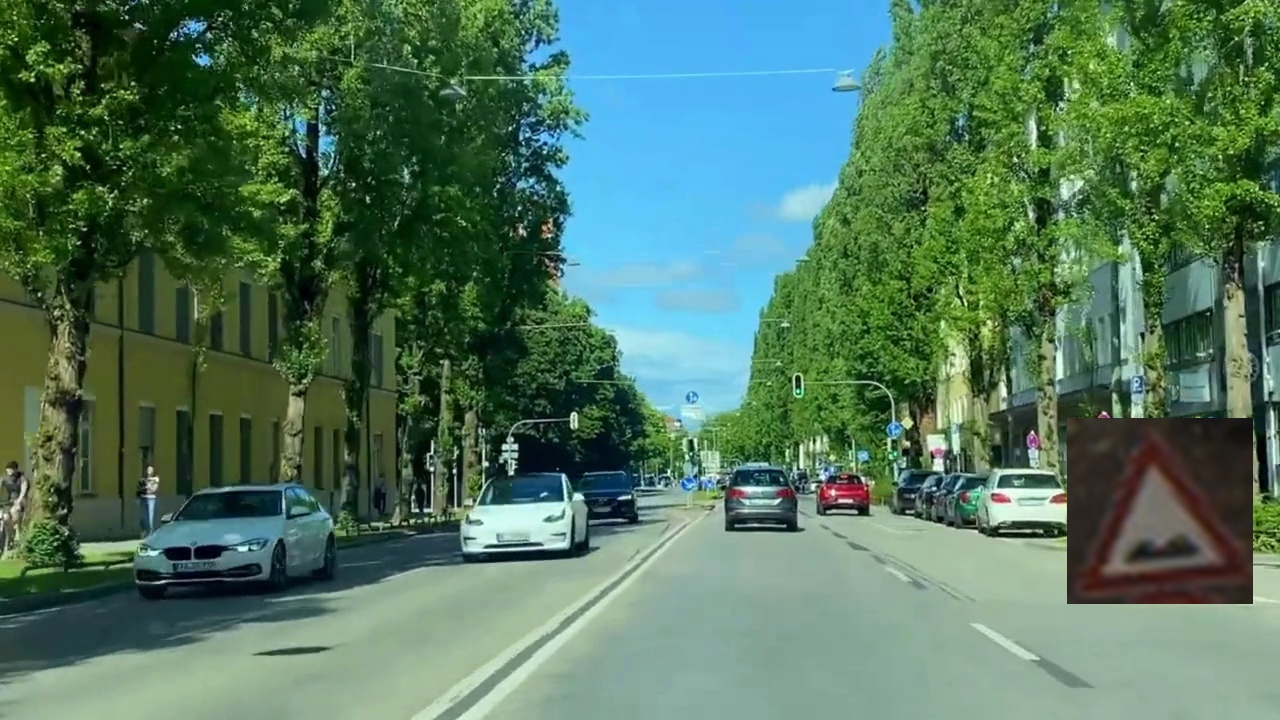Bumpy road: (1067, 418, 1253, 604)
